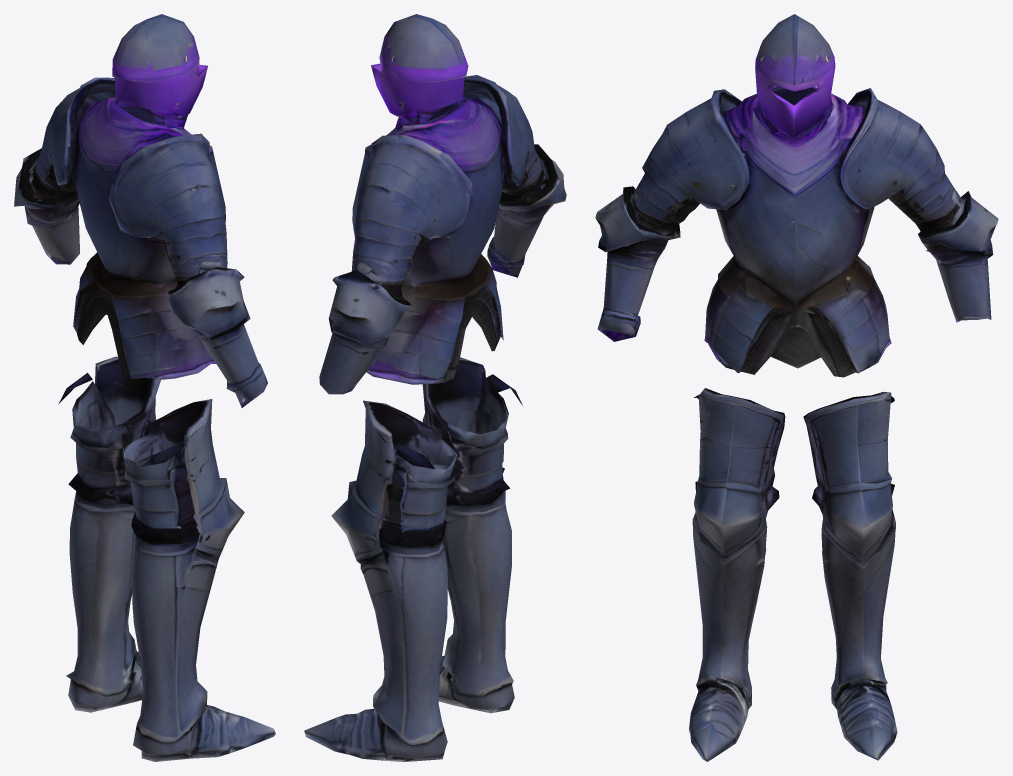
File: medieval+armor+3d+model.obj
3 renders of one model, left to right at view 1: azimuth 30°, elevation 25°; view 2: azimuth 150°, elevation 25°; view 3: azimuth 270°, elevation 25°, orthographic.
Visible parts, largest first — view 1: tripo_node_145e6628-1964-481e-a251-cdec9e85efb7; view 2: tripo_node_145e6628-1964-481e-a251-cdec9e85efb7; view 3: tripo_node_145e6628-1964-481e-a251-cdec9e85efb7.
Boxes of the visible parts, x1,y1,x2,y2 form: tripo_node_145e6628-1964-481e-a251-cdec9e85efb7: (14,14,275,761); tripo_node_145e6628-1964-481e-a251-cdec9e85efb7: (304,14,566,761); tripo_node_145e6628-1964-481e-a251-cdec9e85efb7: (595,14,998,761).
Size of the model in its own units: 0.2182 by 0.997 by 0.5155.
Materials: 1 (1 with a texture image).
